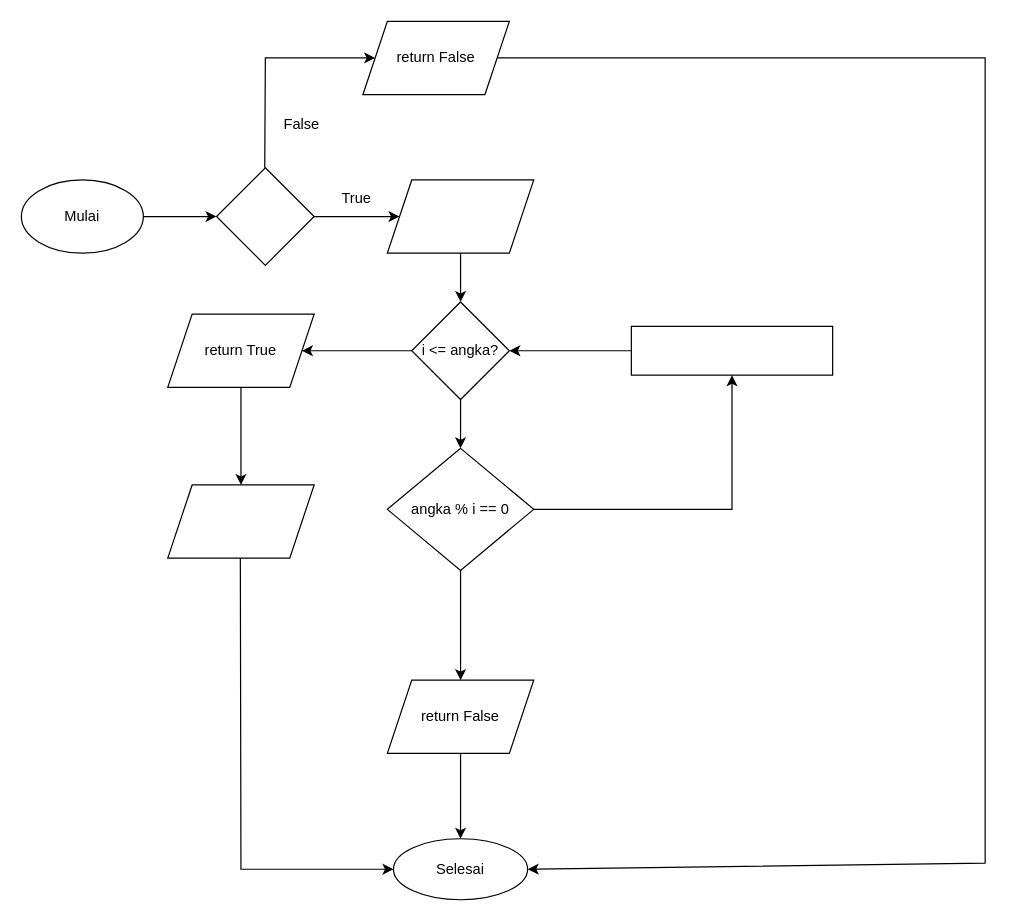
Some shapes in this 1016 by 921 pixel diagram are drawn without their labels. Each missing label, with the box of its shape:
(2, int(angka**0.5) + 1): (630, 325, 833, 375)
angka < 2: (215, 167, 314, 265)
inialisasi i = 2: (386, 179, 534, 253)
Tampilan hasil bilangan prima: (167, 484, 314, 558)
